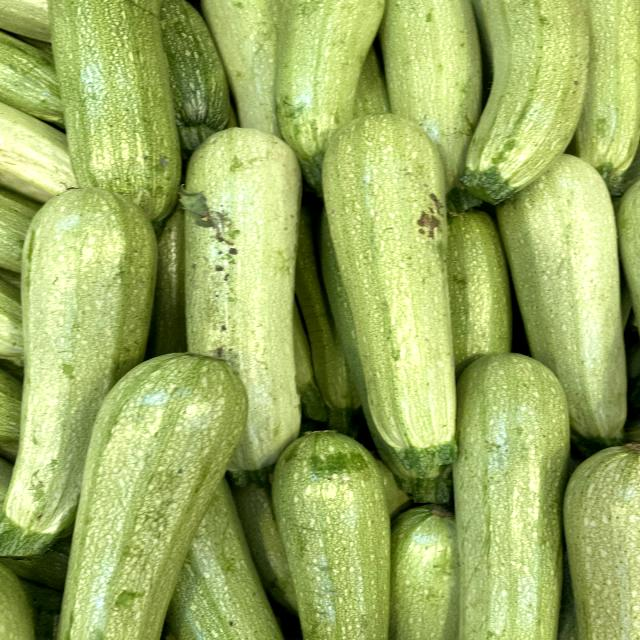zucchini: (0, 177, 175, 574), (316, 102, 489, 485), (174, 111, 314, 484)
